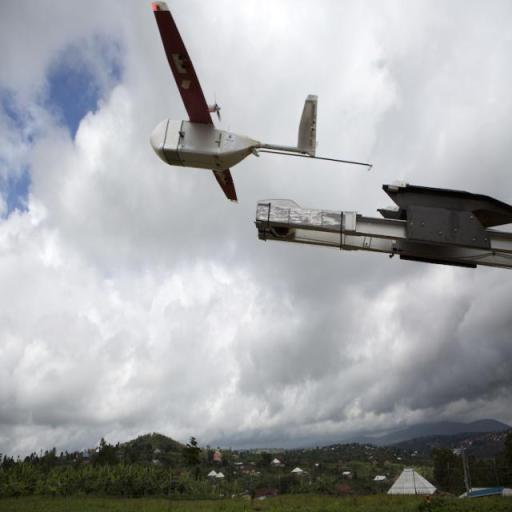uav: (140, 1, 322, 204)
